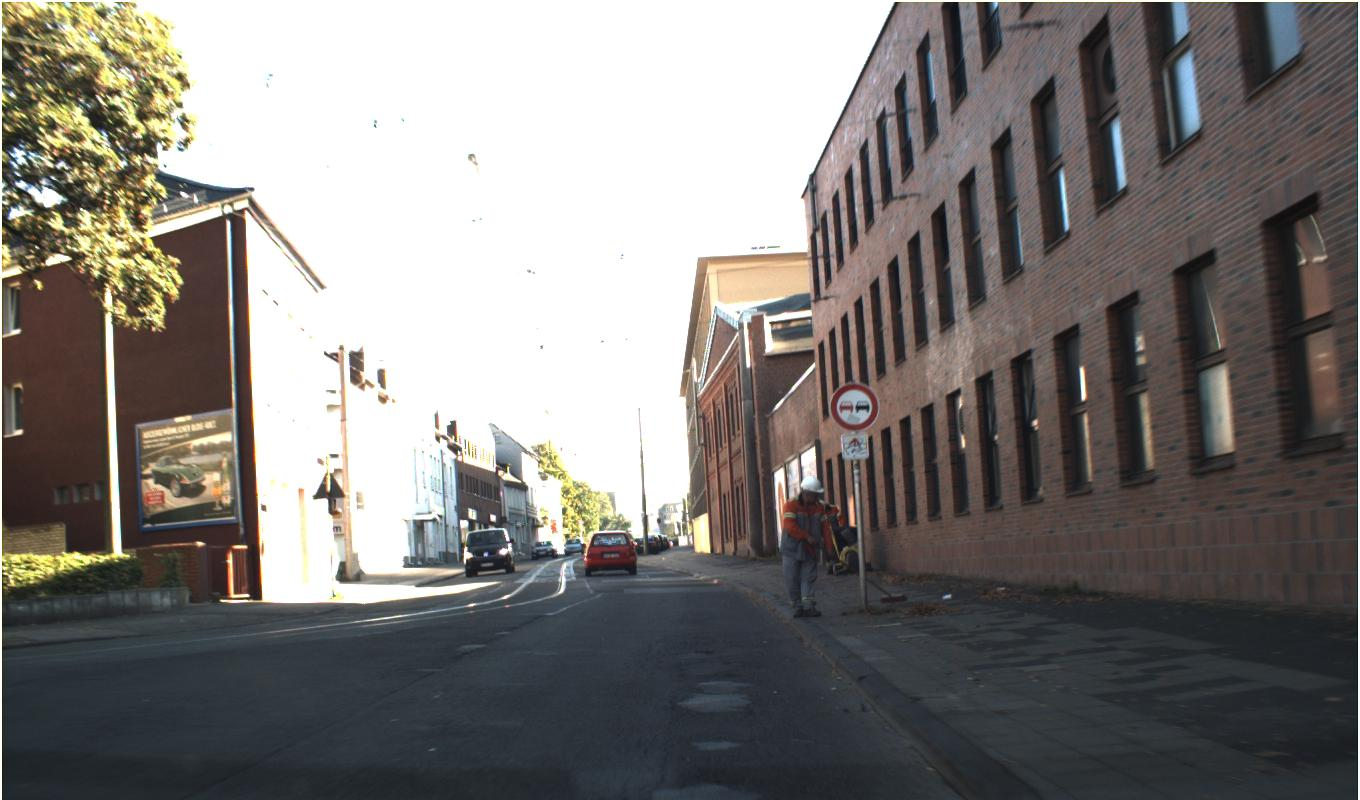prohibitory: (829, 381, 880, 432)
